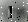person: (10, 7, 17, 19)
